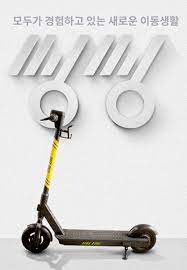kick_body: (61, 229, 127, 244)
kick_neck: (40, 137, 59, 208)
kick_wheel: (22, 224, 50, 252), (131, 225, 156, 252)
